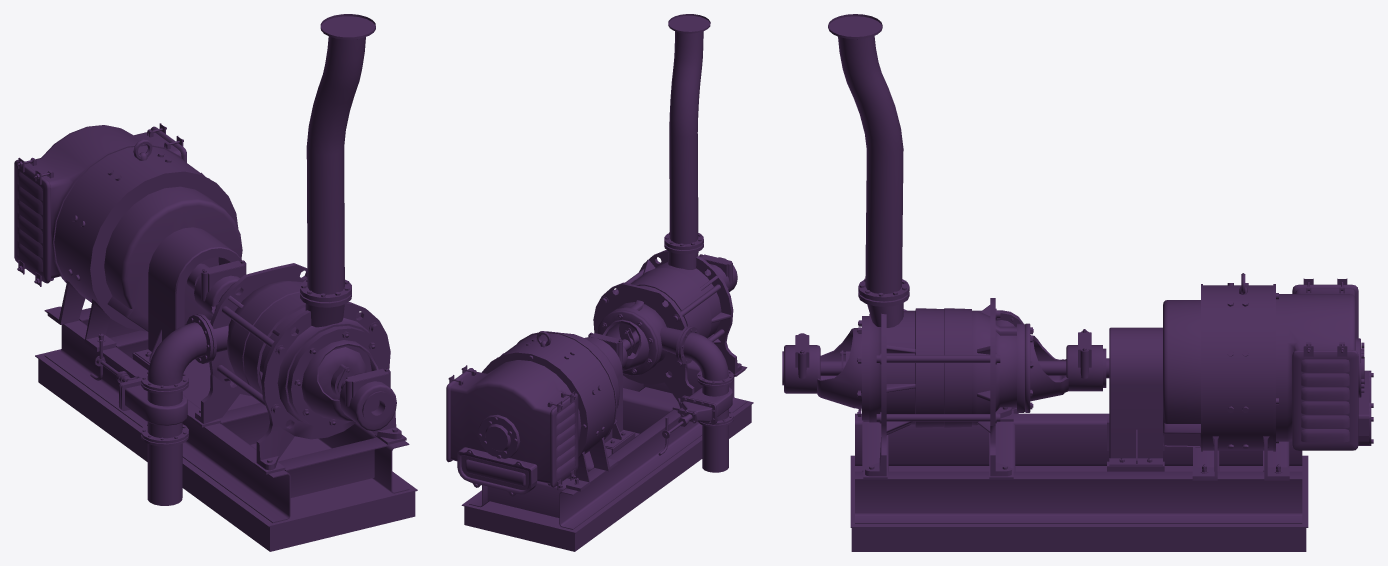
File: Engine12.fbx
The picture shows the model from 3 angles, left to right: view 1: azimuth 30°, elevation 25°; view 2: azimuth 150°, elevation 25°; view 3: azimuth 270°, elevation 25°; orthographic projection. The views are drawn at different scales.
Parts seen in each view (by area): view 1: Stuff2.002; view 2: Stuff2.002; view 3: Stuff2.002.
Part boxes in pixels (<box>): Stuff2.002: <box>14,14,417,551</box>; Stuff2.002: <box>446,14,753,551</box>; Stuff2.002: <box>782,14,1373,551</box>.
Size of the model in its own units: 84.33 by 204 by 221.
